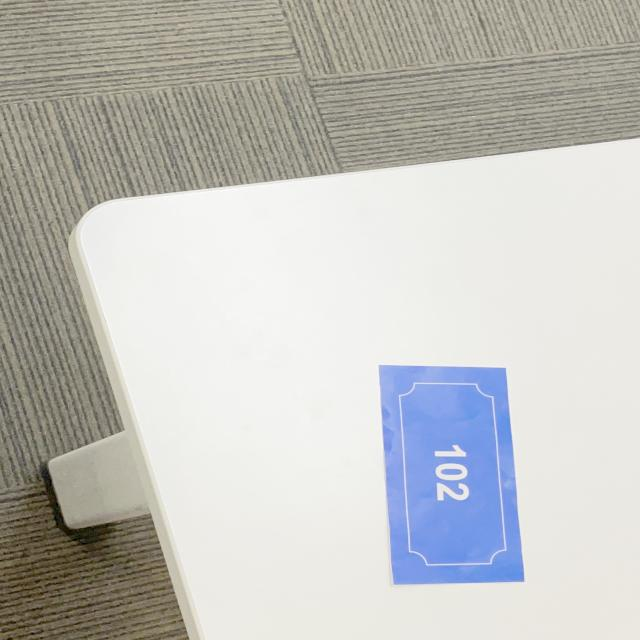Card: (360, 322, 562, 606)
